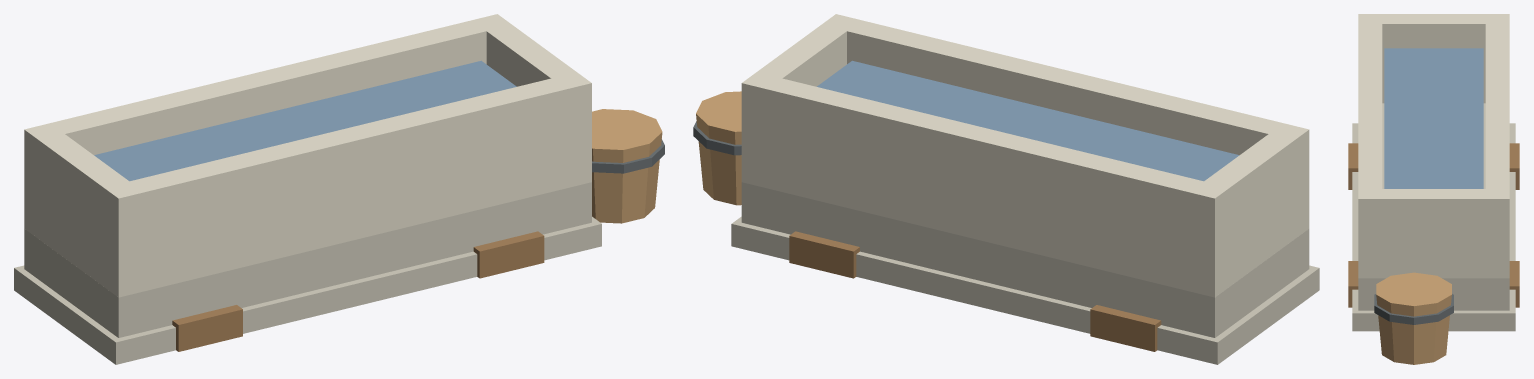
The model's file is water-trough.glb.
The picture shows the model from 3 angles, left to right: view 1: azimuth 30°, elevation 25°; view 2: azimuth 150°, elevation 25°; view 3: azimuth 270°, elevation 25°; orthographic projection. The views are drawn at different scales.
Visible parts, largest first — view 1: water-trough; view 2: water-trough; view 3: water-trough.
Part boxes in pixels (bbox=[...]): water-trough: bbox=[14, 14, 664, 364]; water-trough: bbox=[693, 14, 1319, 364]; water-trough: bbox=[1348, 14, 1519, 364].
Size of the model in its own units: 2.7 by 0.72 by 0.8601.
